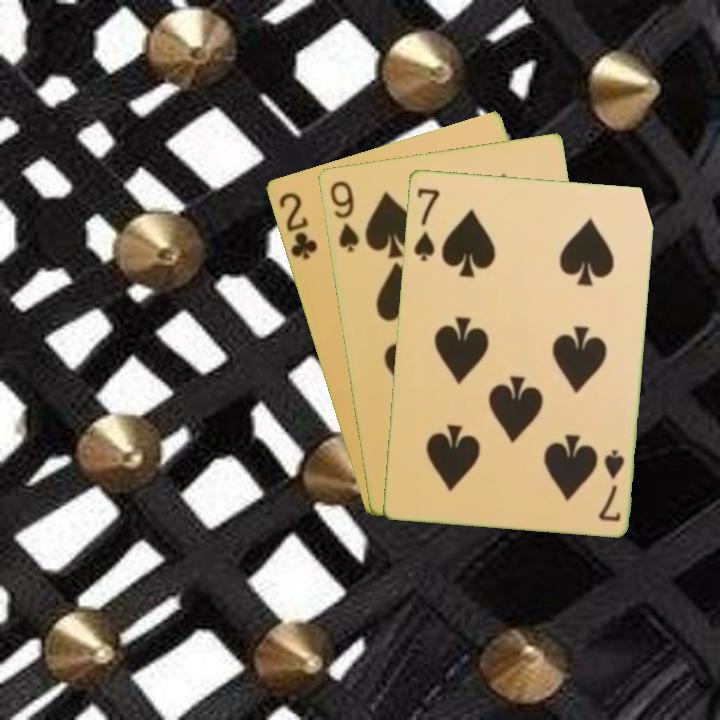2c: (274, 188, 320, 263)
7s: (410, 184, 443, 264), (594, 445, 627, 524)
9s: (326, 176, 362, 255)
